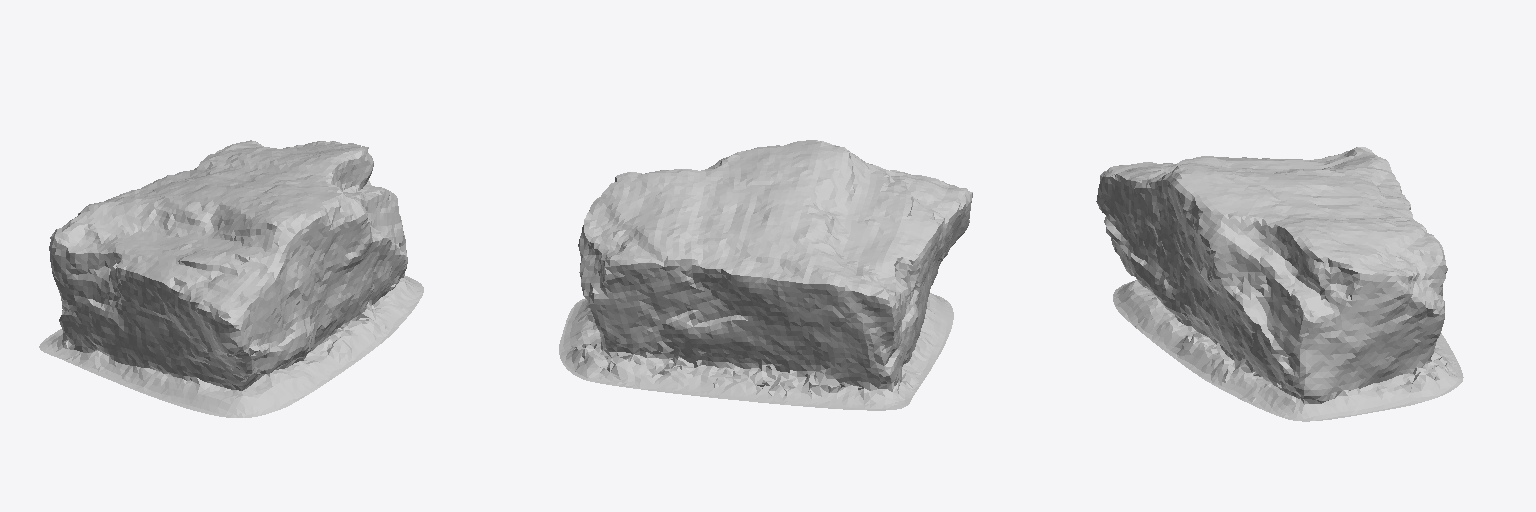
Rendered from big-border-stone-02.obj.
The picture shows the model from 3 angles: view 1: azimuth 30°, elevation 25°; view 2: azimuth 150°, elevation 25°; view 3: azimuth 270°, elevation 25°; orthographic projection.
Visible parts, largest first — view 1: kmd_a; view 2: kmd_a; view 3: kmd_a.
Part boxes in pixels (x1,y1,x2,y2): kmd_a: (39,140,423,417); kmd_a: (559,140,972,410); kmd_a: (1096,147,1463,421).
Size of the model in its own units: 0.3427 by 0.1472 by 0.3086.